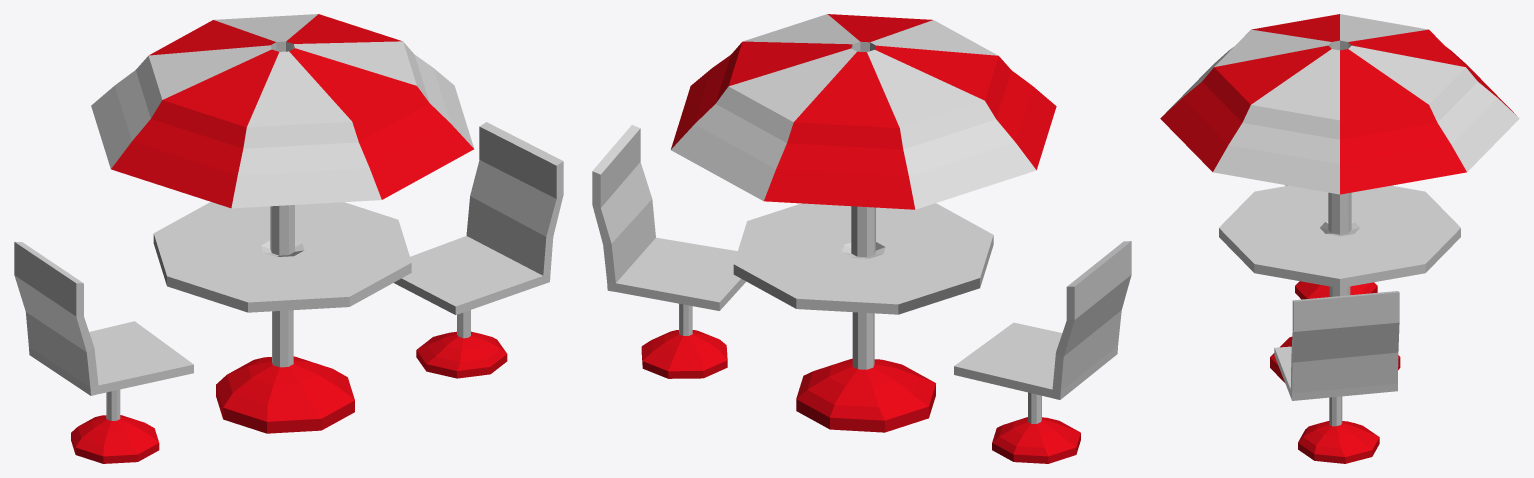
The model's file is outsideseating.fbx.
The picture shows the model from 3 angles, left to right: view 1: azimuth 30°, elevation 25°; view 2: azimuth 150°, elevation 25°; view 3: azimuth 270°, elevation 25°; orthographic projection. The views are drawn at different scales.
Visible parts, largest first — view 1: Circle; view 2: Circle; view 3: Circle.
Part boxes in pixels (box(x1,y1,x2,y2)): Circle: box(14, 14, 563, 463); Circle: box(592, 14, 1131, 463); Circle: box(1160, 14, 1519, 463).
Bounding box in the file's own units: 793 × 545 × 551.
